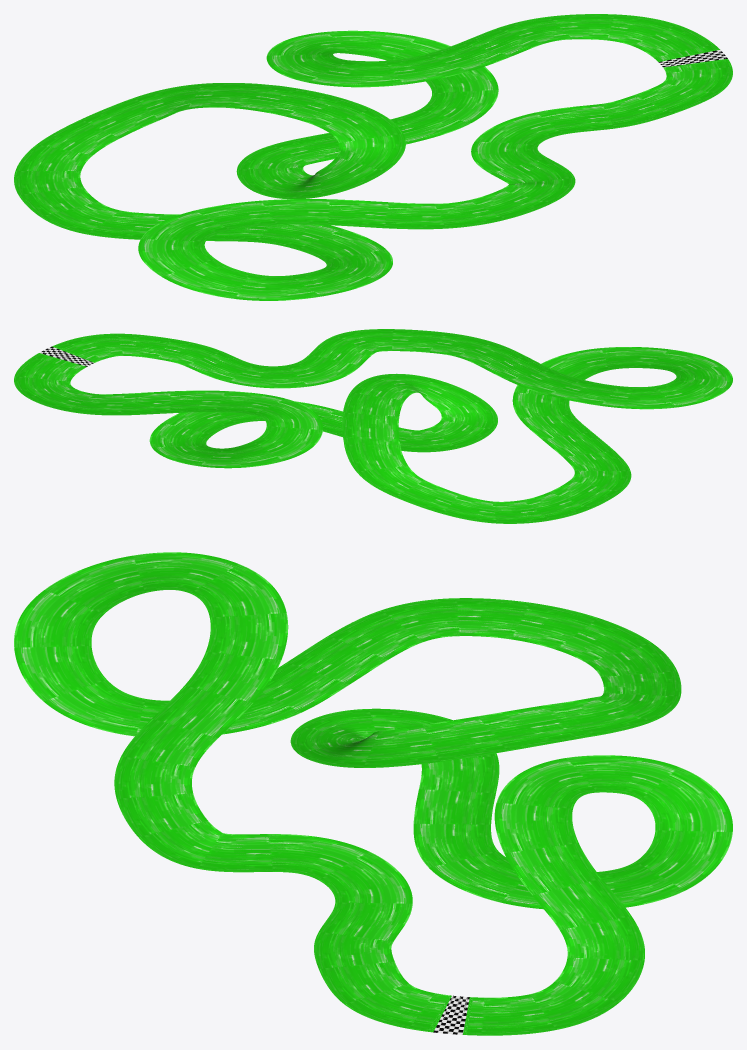
File: CompilerTrack.glb
3 views of the same model, one above another, from view 1: azimuth 30°, elevation 25°; view 2: azimuth 150°, elevation 25°; view 3: azimuth 270°, elevation 25° (orthographic). The views are drawn at different scales.
Visible parts, largest first — view 1: CURRENT; view 2: CURRENT; view 3: CURRENT.
Boxes of the visible parts, x1=… form: CURRENT: x1=14, y1=14, x2=732, y2=300; CURRENT: x1=14, y1=329, x2=732, y2=523; CURRENT: x1=14, y1=552, x2=732, y2=1035.
Bounding box in the file's own units: 231 × 11.42 × 160.
Materials: 2 (2 with a texture image).
